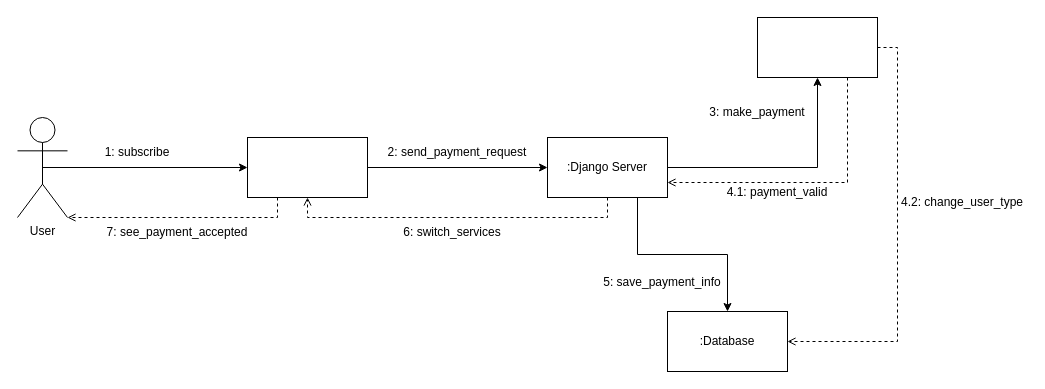
This 1045x389 diagram has some shape labels left out. Each missing label, with the centre of its shape:
":Payment Service" goes at pixel 817 47.
":UI" goes at pixel 307 167.
